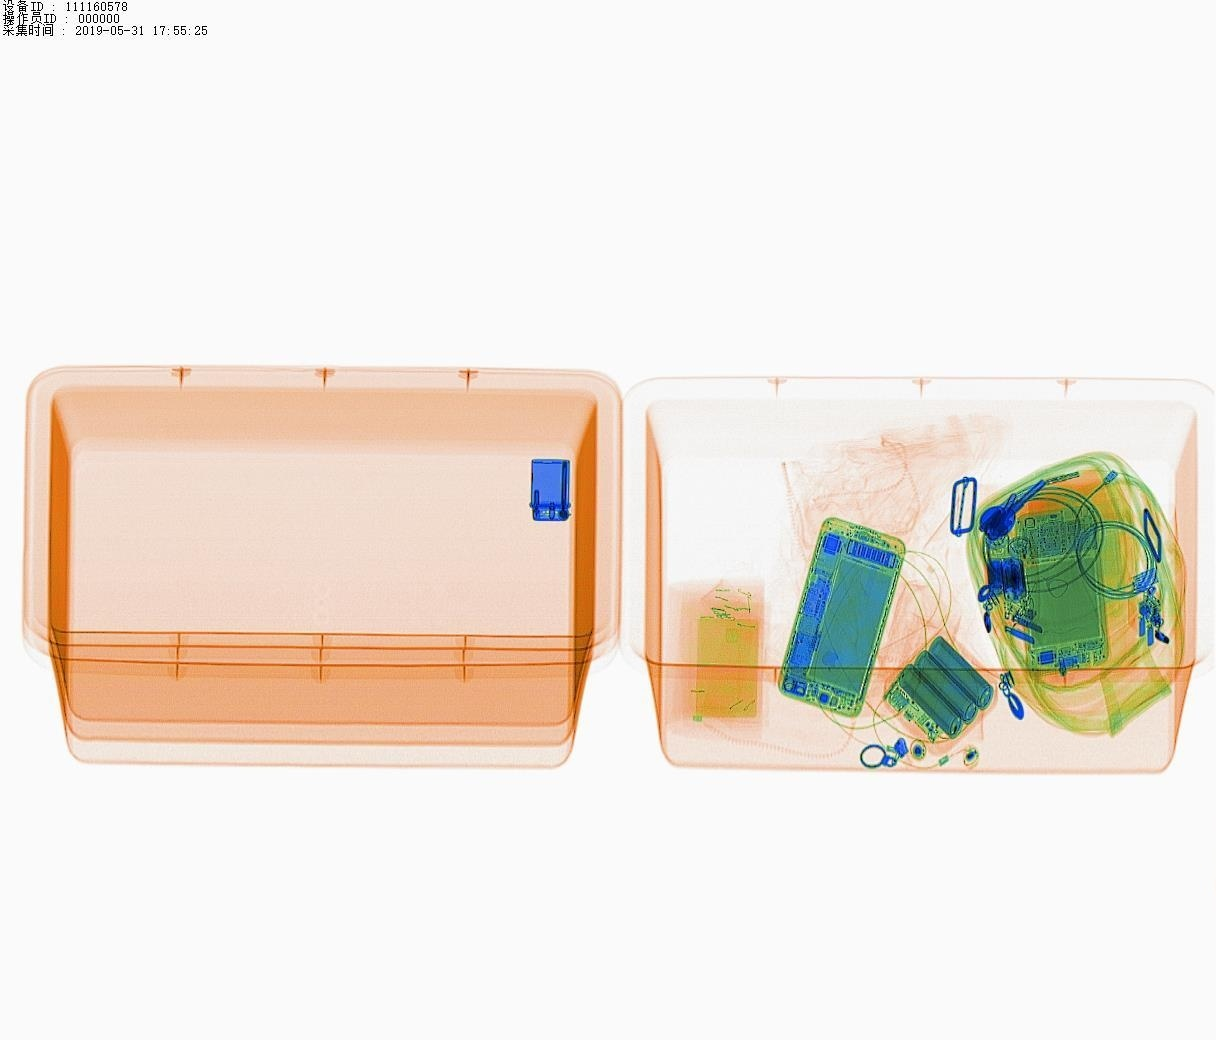NonmetallicFire: (520, 447, 584, 533)
